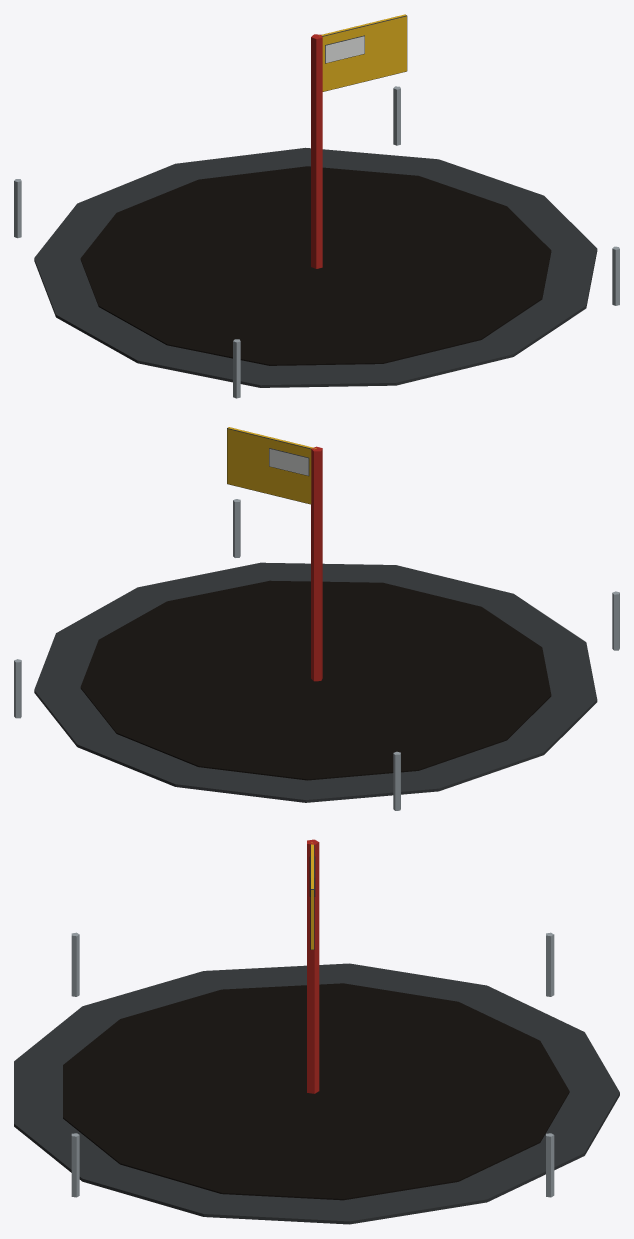
Rendered from gam_deposit.glb.
The picture shows the model from 3 angles, top to bottom: view 1: azimuth 30°, elevation 25°; view 2: azimuth 150°, elevation 25°; view 3: azimuth 270°, elevation 25°; orthographic projection. The views are drawn at different scales.
Visible parts, largest first — view 1: gam_deposit; view 2: gam_deposit; view 3: gam_deposit.
Boxes of the visible parts, x1=… form: gam_deposit: x1=14, y1=14, x2=619, y2=398; gam_deposit: x1=14, y1=427, x2=619, y2=810; gam_deposit: x1=14, y1=839, x2=619, y2=1224.
Bounding box in the file's own units: 10.92 × 5 × 10.84.
